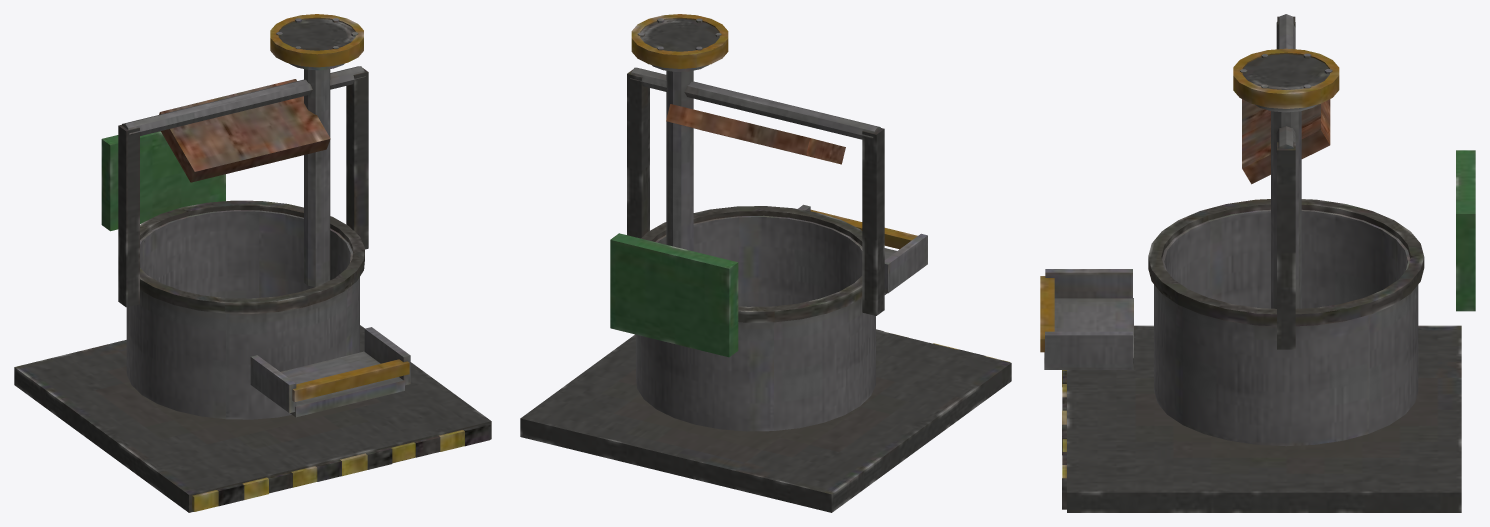
The model's file is feItemDrain.glb.
3 views of the same model, side by side, from view 1: azimuth 30°, elevation 25°; view 2: azimuth 150°, elevation 25°; view 3: azimuth 270°, elevation 25° (orthographic). The views are drawn at different scales.
Visible parts, largest first — view 1: feItemDrain_Base; view 2: feItemDrain_Base; view 3: feItemDrain_Base.
Boxes of the visible parts, left/top/right/bottom form: feItemDrain_Base: left=14, top=14, right=491, bottom=512; feItemDrain_Base: left=520, top=14, right=1011, bottom=512; feItemDrain_Base: left=1040, top=14, right=1475, bottom=512.
Size of the model in its own units: 0.9012 by 1.01 by 0.9936.
2 materials, 1 textured.
